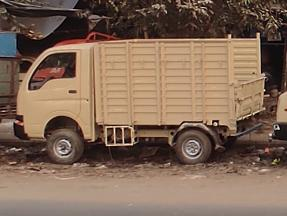Truck: (14, 34, 270, 165)
